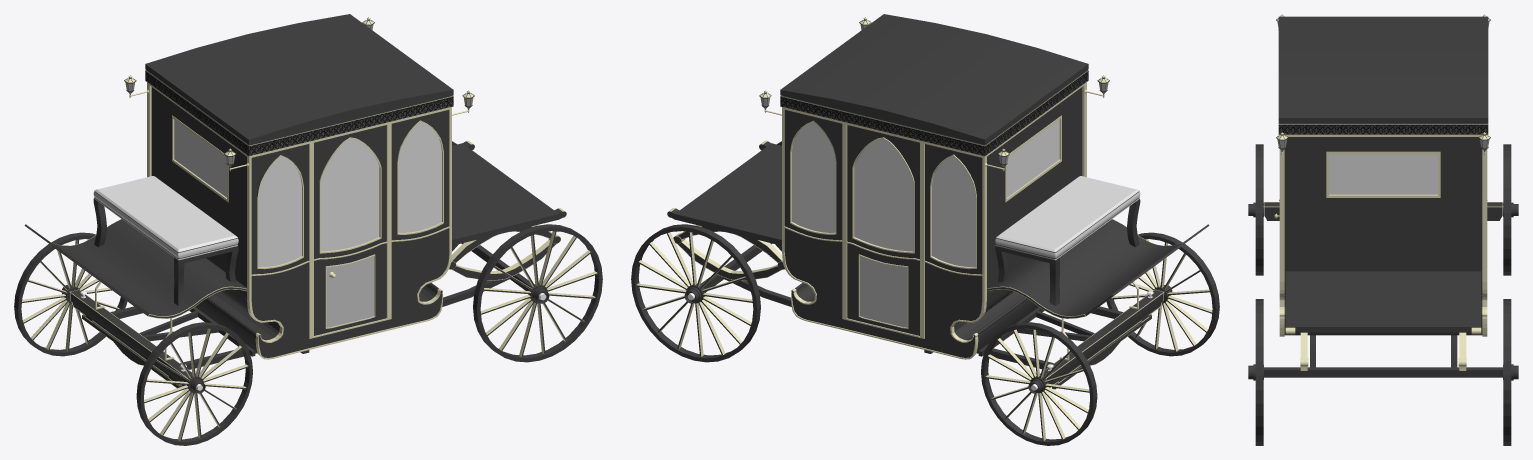
Rendered from Basya01.fbx.
3 views of the same model, side by side, from view 1: azimuth 30°, elevation 25°; view 2: azimuth 150°, elevation 25°; view 3: azimuth 270°, elevation 25° (orthographic).
Parts seen in each view (by area): view 1: tenjou, pPlane10, pPlane9, pPlane6, pCube11, isu, sokumen1, syarin2, pCube7, pPlane7, syarin, syarin1 (+10 smaller); view 2: tenjou, pPlane6, pPlane1, syarin1 (×2), pCube11, isu, sokumen, pCube7, pPlane5, syarin, door_tekusutya1, pCube2 (+8 smaller); view 3: pPlane1, tenjou, pCube7, mado1, syarin1 (×2), pCube4, pPlane23, syarin2, syarin, pCube6, pPlane9, tyu_tenjou (+1 smaller).
Part boxes in pixels (left/top/right/bottom): tenjou: left=145, top=14, right=453, bottom=144; pPlane10: left=247, top=141, right=311, bottom=359; pPlane9: left=389, top=107, right=451, bottom=329; pPlane6: left=147, top=82, right=391, bottom=352; pCube11: left=24, top=219, right=246, bottom=318; isu: left=93, top=176, right=238, bottom=305; sokumen1: left=312, top=122, right=389, bottom=338; syarin2: left=473, top=224, right=602, bottom=362; pCube7: left=452, top=141, right=562, bottom=245; pPlane7: left=320, top=139, right=379, bottom=251; syarin: left=136, top=322, right=252, bottom=445; syarin1: left=14, top=232, right=127, bottom=356; tenjou: left=780, top=14, right=1088, bottom=144; pPlane6: left=842, top=84, right=1084, bottom=359; pPlane1: left=782, top=107, right=844, bottom=329; syarin1 (×2): left=631, top=224, right=1097, bottom=445; pCube11: left=987, top=219, right=1209, bottom=318; isu: left=995, top=176, right=1140, bottom=305; sokumen: left=844, top=122, right=921, bottom=338; pCube7: left=671, top=141, right=781, bottom=245; pPlane5: left=854, top=139, right=913, bottom=251; syarin: left=1106, top=232, right=1219, bottom=356; door_tekusutya1: left=860, top=256, right=907, bottom=327; pCube2: left=1040, top=289, right=1164, bottom=387; pPlane1: left=1284, top=135, right=1487, bottom=336; tenjou: left=1278, top=16, right=1488, bottom=123; pCube7: left=1285, top=271, right=1481, bottom=332; mado1: left=1329, top=154, right=1437, bottom=194; syarin1 (×2): left=1503, top=144, right=1518, bottom=445; pCube4: left=1264, top=367, right=1502, bottom=377; pPlane23: left=1278, top=124, right=1488, bottom=134; syarin2: left=1248, top=299, right=1263, bottom=445; syarin: left=1248, top=144, right=1263, bottom=275; pCube6: left=1326, top=151, right=1440, bottom=197; pPlane9: left=1279, top=149, right=1284, bottom=336; tyu_tenjou: left=1278, top=123, right=1488, bottom=134.
Size of the model in its own units: 7.75 by 4.53 by 3.84.
